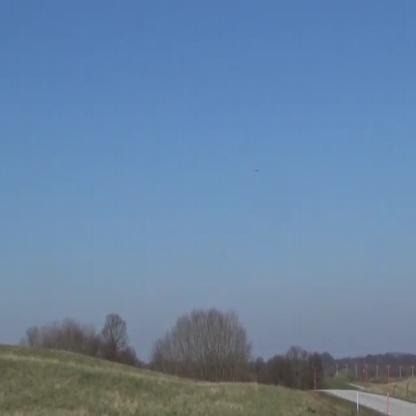CIV_Plane: (252, 165, 263, 173)
